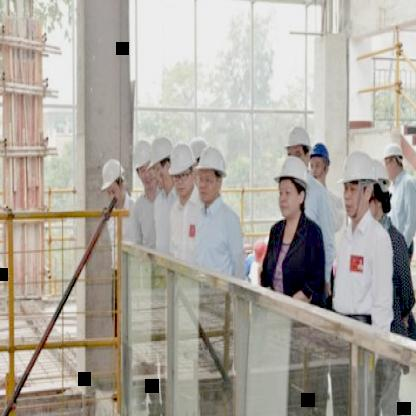helmet: (340, 148, 382, 226), (274, 150, 310, 220), (272, 154, 310, 217), (197, 144, 228, 202), (368, 156, 392, 224), (378, 130, 406, 186), (148, 133, 172, 193), (134, 133, 156, 196), (174, 141, 198, 197), (286, 125, 312, 171), (310, 140, 332, 184), (104, 157, 125, 202)
